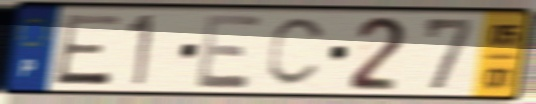1: (125, 12, 156, 89)
2: (346, 14, 410, 94)
7: (422, 16, 478, 93)
C: (263, 15, 330, 90)
E: (194, 12, 266, 91), (51, 12, 125, 88)
